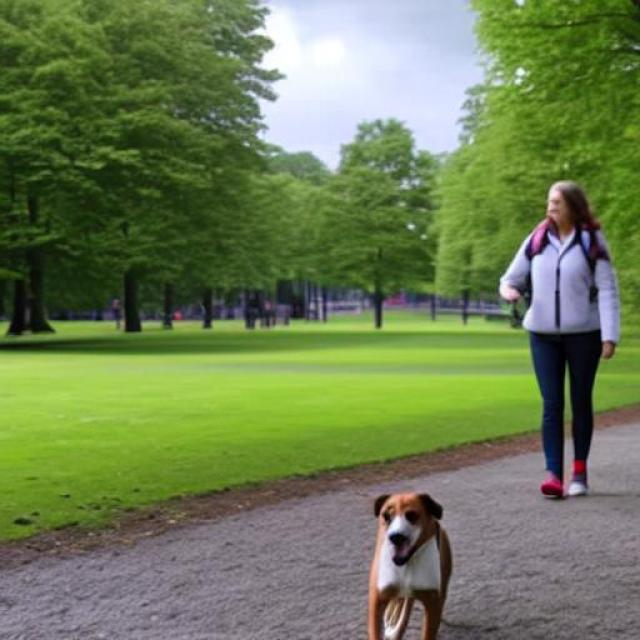Unleashed_Dog: (368, 318, 603, 640)
